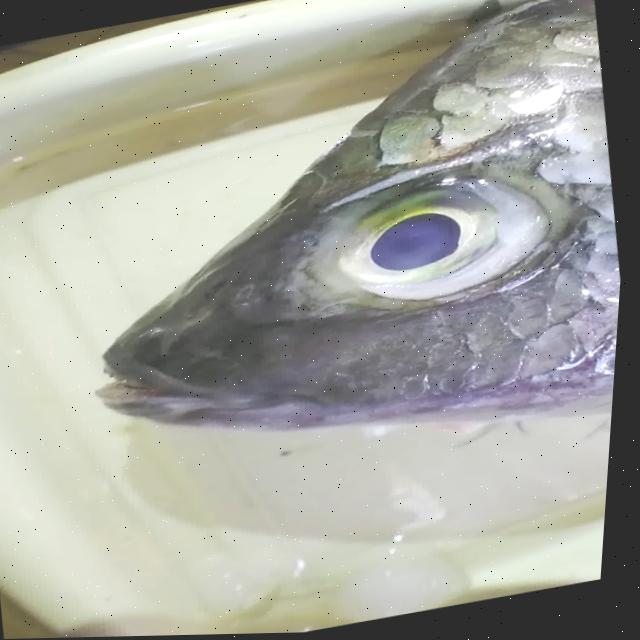Fresh: (309, 156, 577, 333)
